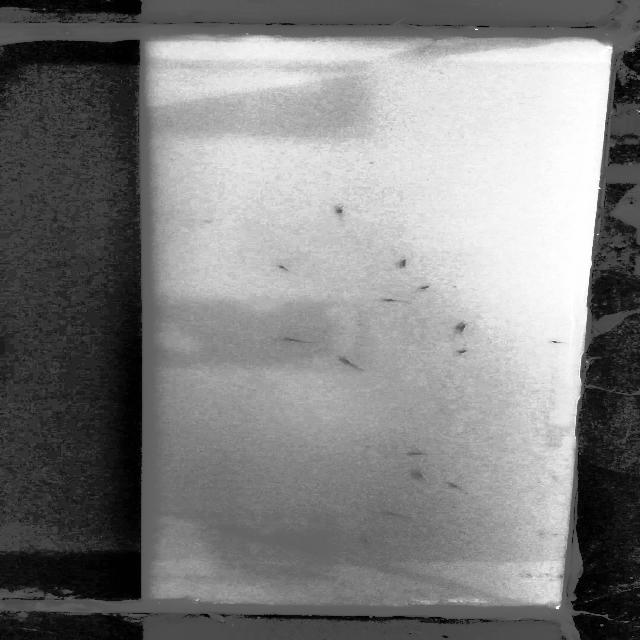shrimp: (339, 356, 387, 374), (378, 505, 418, 522), (330, 202, 356, 224), (446, 481, 478, 496), (353, 537, 383, 551), (412, 282, 446, 294), (398, 448, 442, 456), (281, 336, 316, 346), (450, 322, 474, 335), (410, 468, 429, 483), (269, 265, 304, 272), (542, 338, 572, 346), (382, 297, 412, 305), (456, 345, 470, 358), (398, 256, 408, 269)
